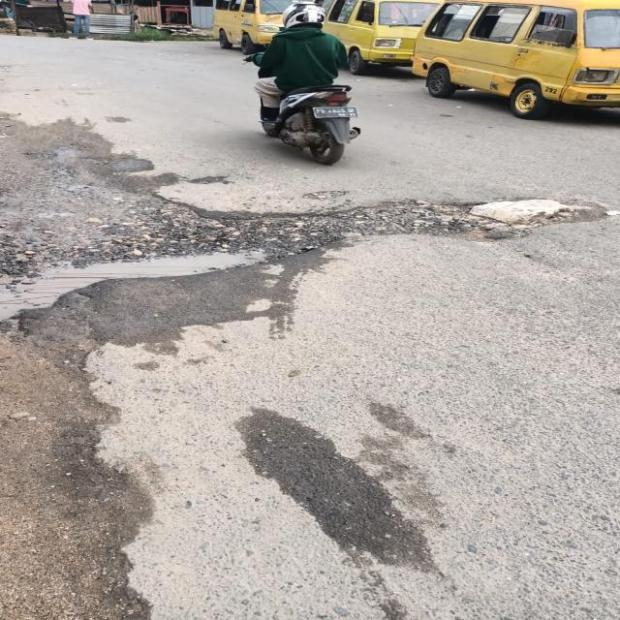lubang: (0, 185, 605, 619)
